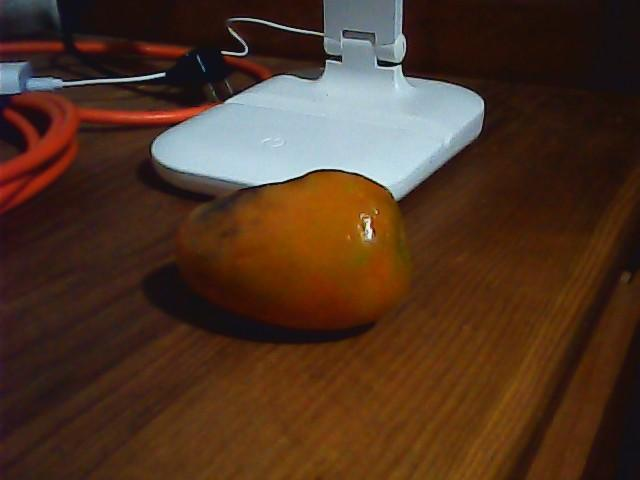defectuoso: (171, 168, 417, 337)
